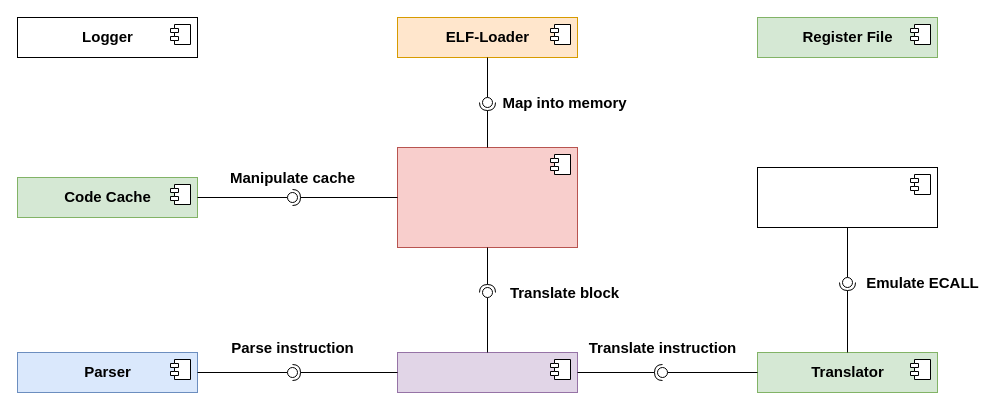
This 1005x410 diagram has some shape labels left out. The shapes that lost their labels are listed below. From the top down, each one's centre as x and y in pixels, then its label:
point (487, 197): Dispatch
point (847, 197): System Call Emulation
point (487, 372): Block Loader
